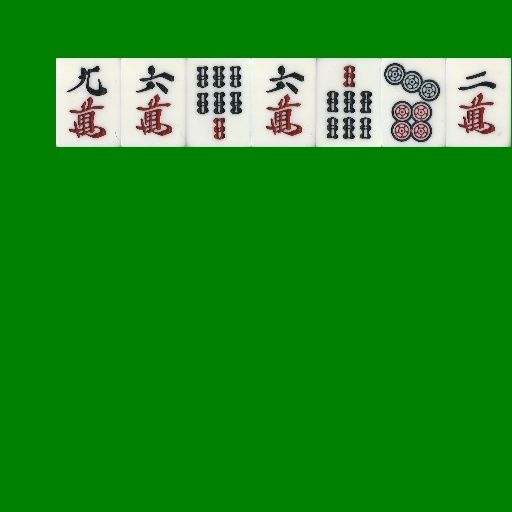2m: (446, 58, 511, 147)
6m: (121, 58, 186, 147), (251, 58, 316, 147)
7p: (381, 58, 446, 147)
7s: (186, 58, 251, 147), (316, 58, 381, 147)
9m: (56, 58, 121, 147)
